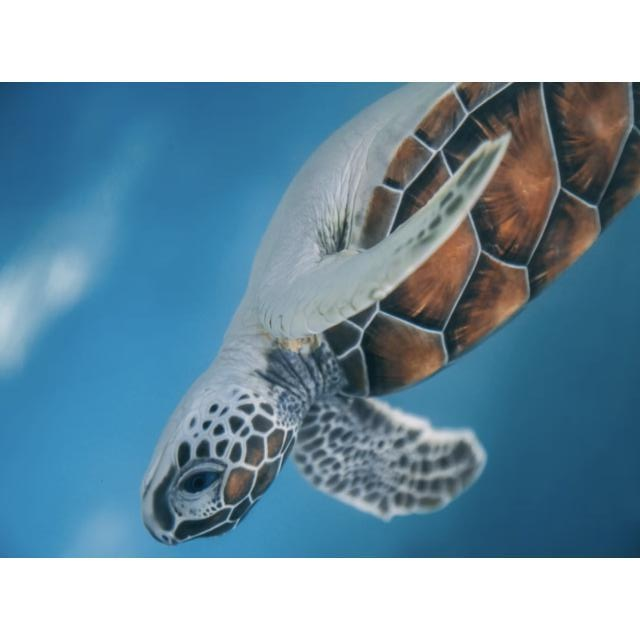turtle: (138, 85, 638, 548)
